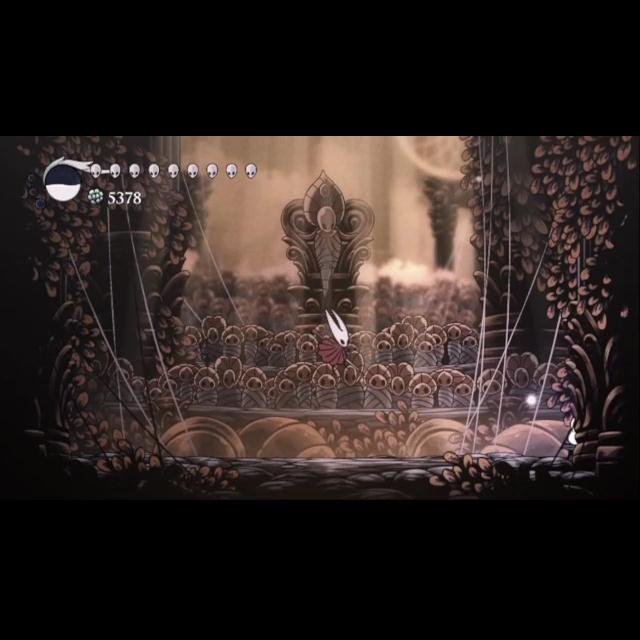Enemy: (304, 305, 372, 381)
Player: (555, 416, 593, 462)
